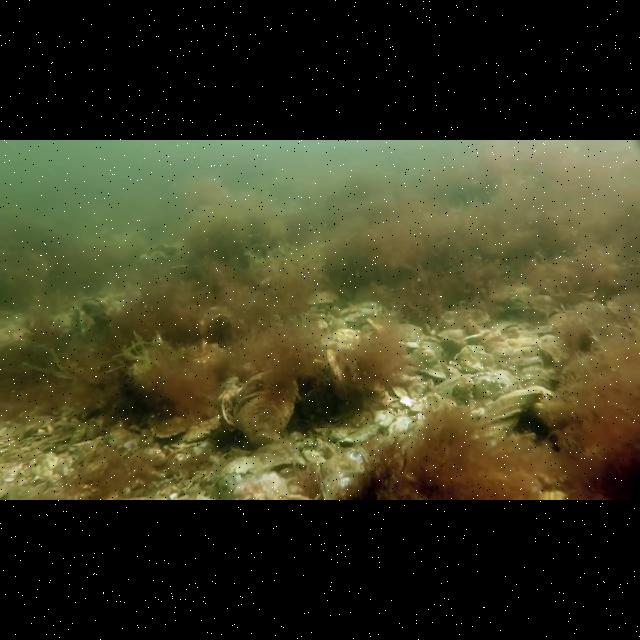Oyster-Closed: (226, 361, 311, 447), (478, 385, 557, 420), (177, 416, 223, 445)
